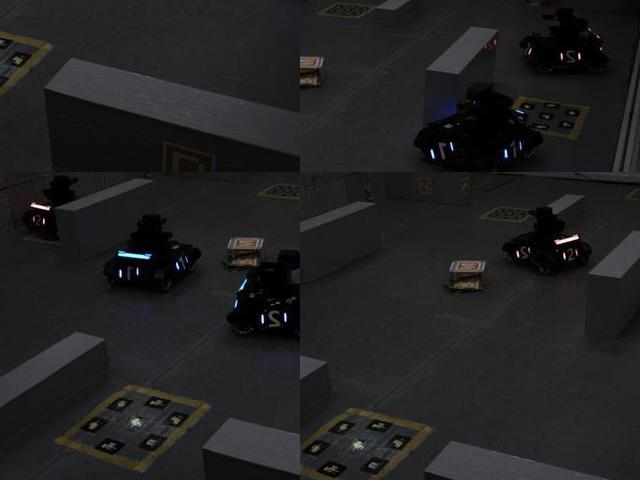armor: (427, 138, 463, 166), (258, 304, 293, 332), (116, 262, 146, 287), (499, 138, 526, 164), (555, 48, 587, 67), (514, 240, 536, 265), (171, 250, 190, 278), (27, 210, 47, 231), (560, 244, 580, 265)
